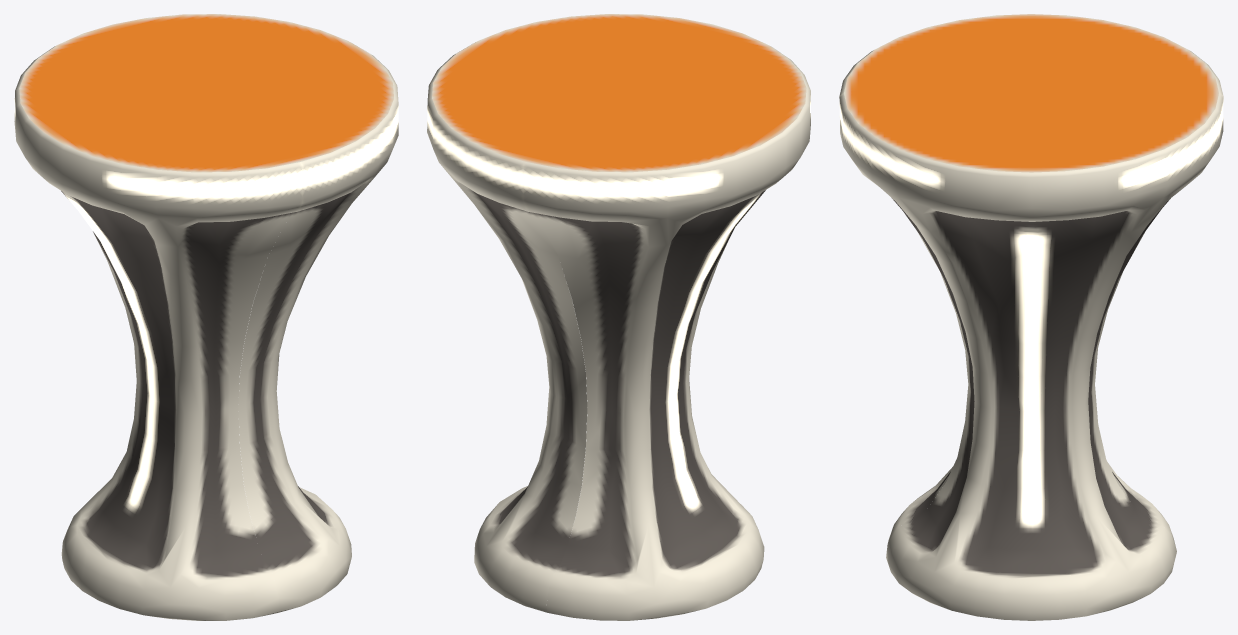
The model's file is table_round_c.glb.
3 renders of one model, left to right at view 1: azimuth 30°, elevation 25°; view 2: azimuth 150°, elevation 25°; view 3: azimuth 270°, elevation 25°, orthographic.
Visible parts, largest first — view 1: table_round; view 2: table_round; view 3: table_round.
Part boxes in pixels (bbox=[...]): table_round: bbox=[14, 14, 398, 620]; table_round: bbox=[427, 14, 810, 620]; table_round: bbox=[839, 14, 1223, 620].
Size of the model in its own units: 0.8222 by 1.1 by 0.8202.
Materials: 1 (1 with a texture image).
